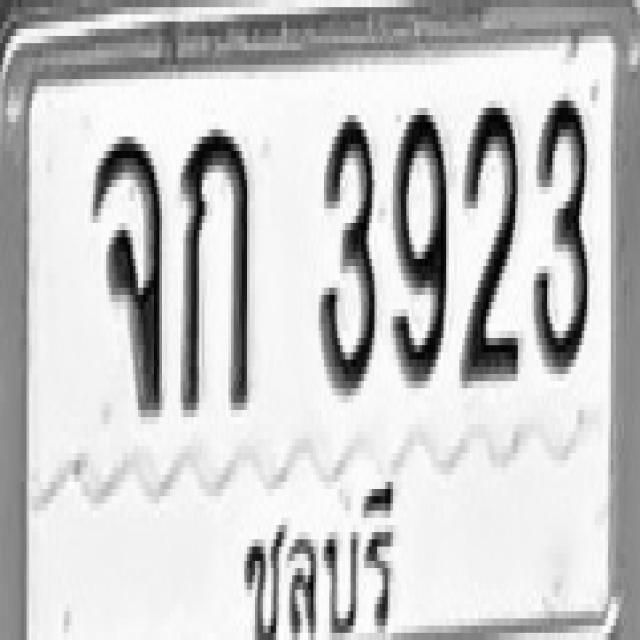10GorGai: (179, 122, 251, 410)
17ChorChan: (90, 130, 162, 417)
2: (459, 101, 518, 381)
3: (317, 108, 376, 395), (532, 93, 588, 374)
9: (391, 104, 446, 385)
Chonburi: (228, 482, 398, 640)
